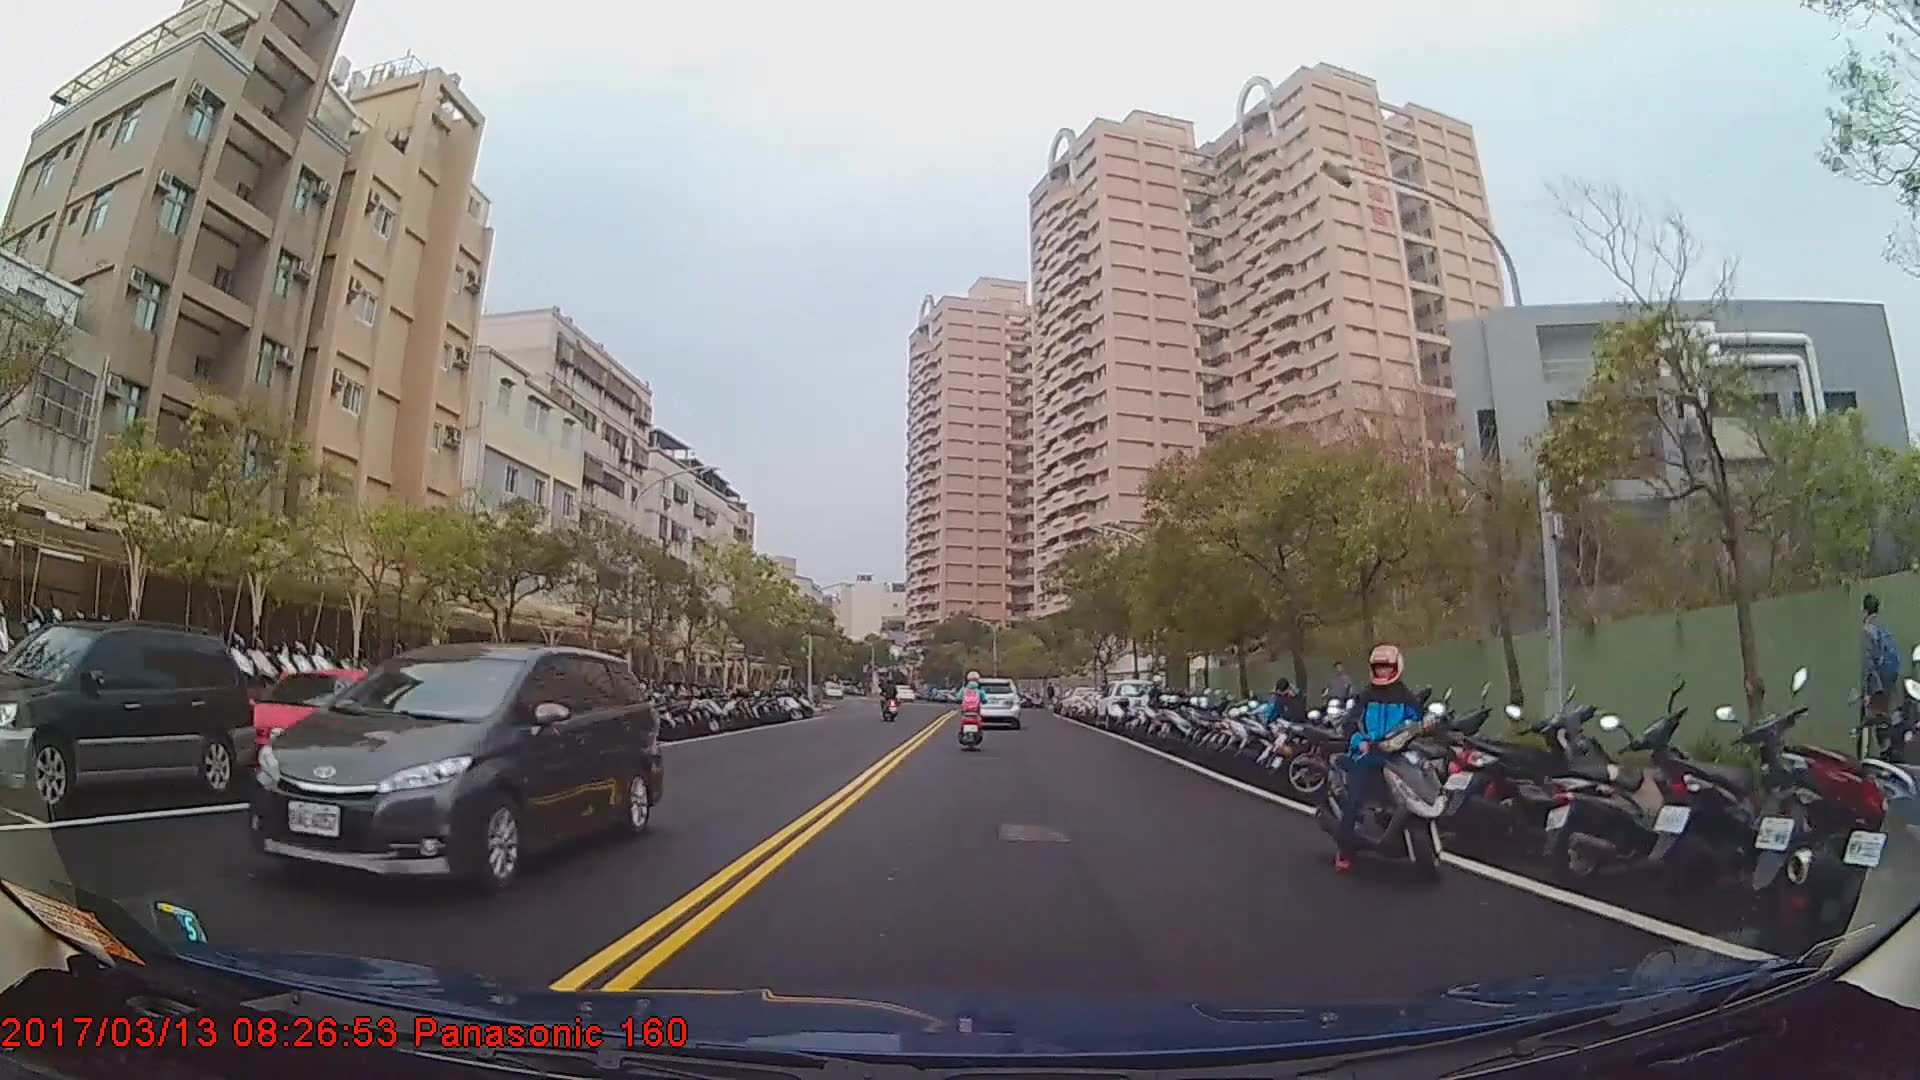pedestrian: (1849, 594, 1901, 799), (1265, 679, 1311, 771)
rider: (1323, 639, 1448, 879), (955, 673, 988, 750), (880, 680, 900, 723)
vehicle: (250, 644, 661, 892), (0, 618, 251, 807), (1093, 677, 1165, 732), (965, 676, 1020, 727)
